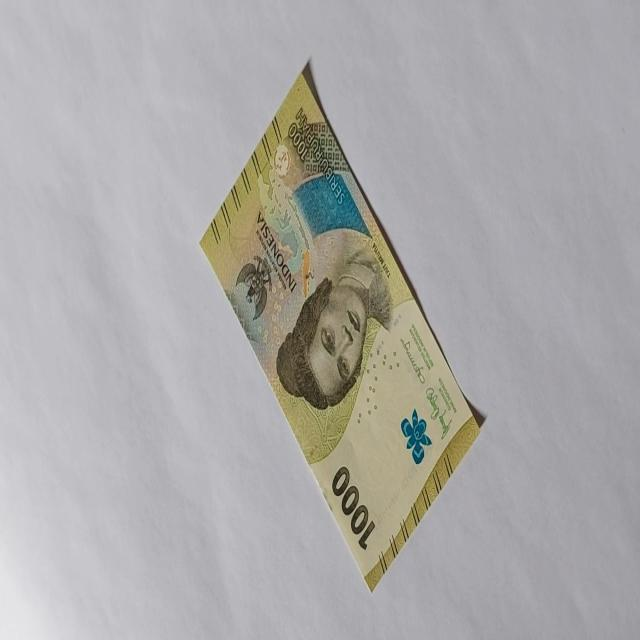seribu rupiah kertas: (198, 59, 482, 593)
